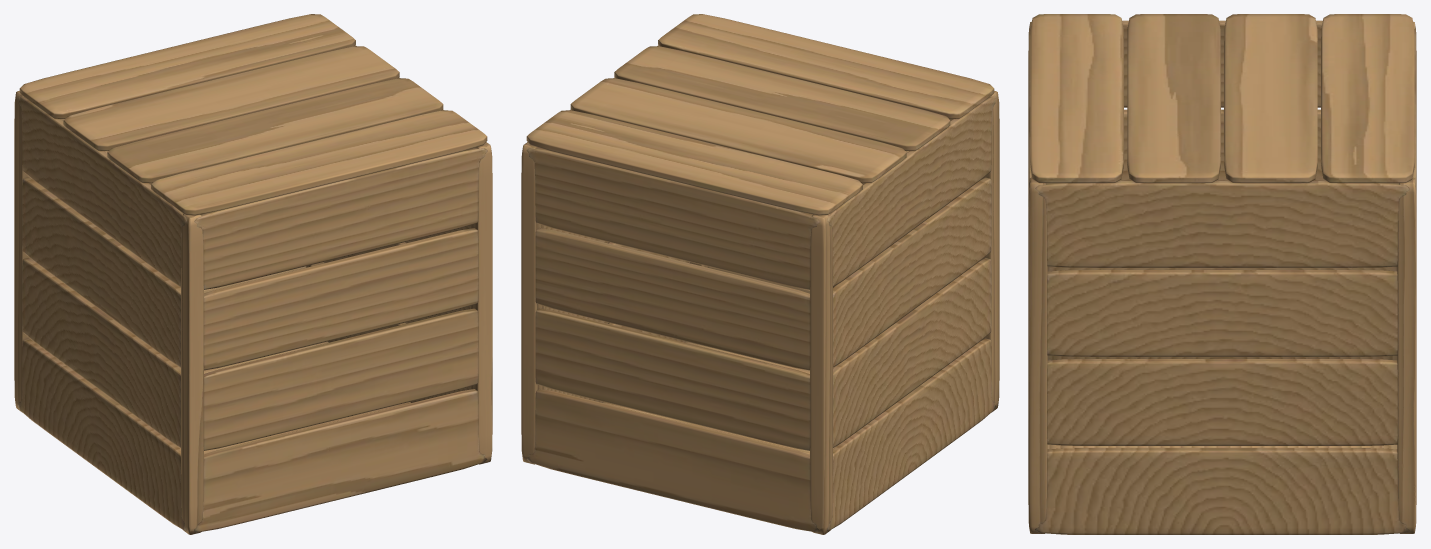
File: large.glb
The picture shows the model from 3 angles, left to right: view 1: azimuth 30°, elevation 25°; view 2: azimuth 150°, elevation 25°; view 3: azimuth 270°, elevation 25°; orthographic projection. The views are drawn at different scales.
Visible parts, largest first — view 1: crate_wood, crate_wood_v; view 2: crate_wood, crate_wood_v; view 3: crate_wood, crate_wood_v.
Boxes of the visible parts, x1,y1,x2,y2 form: crate_wood: [17, 14, 487, 532]; crate_wood_v: [14, 91, 492, 534]; crate_wood: [526, 14, 996, 532]; crate_wood_v: [521, 91, 999, 534]; crate_wood: [1028, 14, 1416, 534]; crate_wood_v: [1028, 21, 1416, 533].
Bounding box in the file's own units: 0.901 × 0.919 × 0.901.
2 materials, 2 textured.
